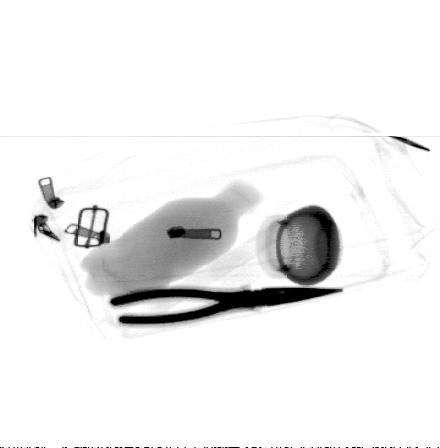Pliers: (107, 282, 345, 329)
